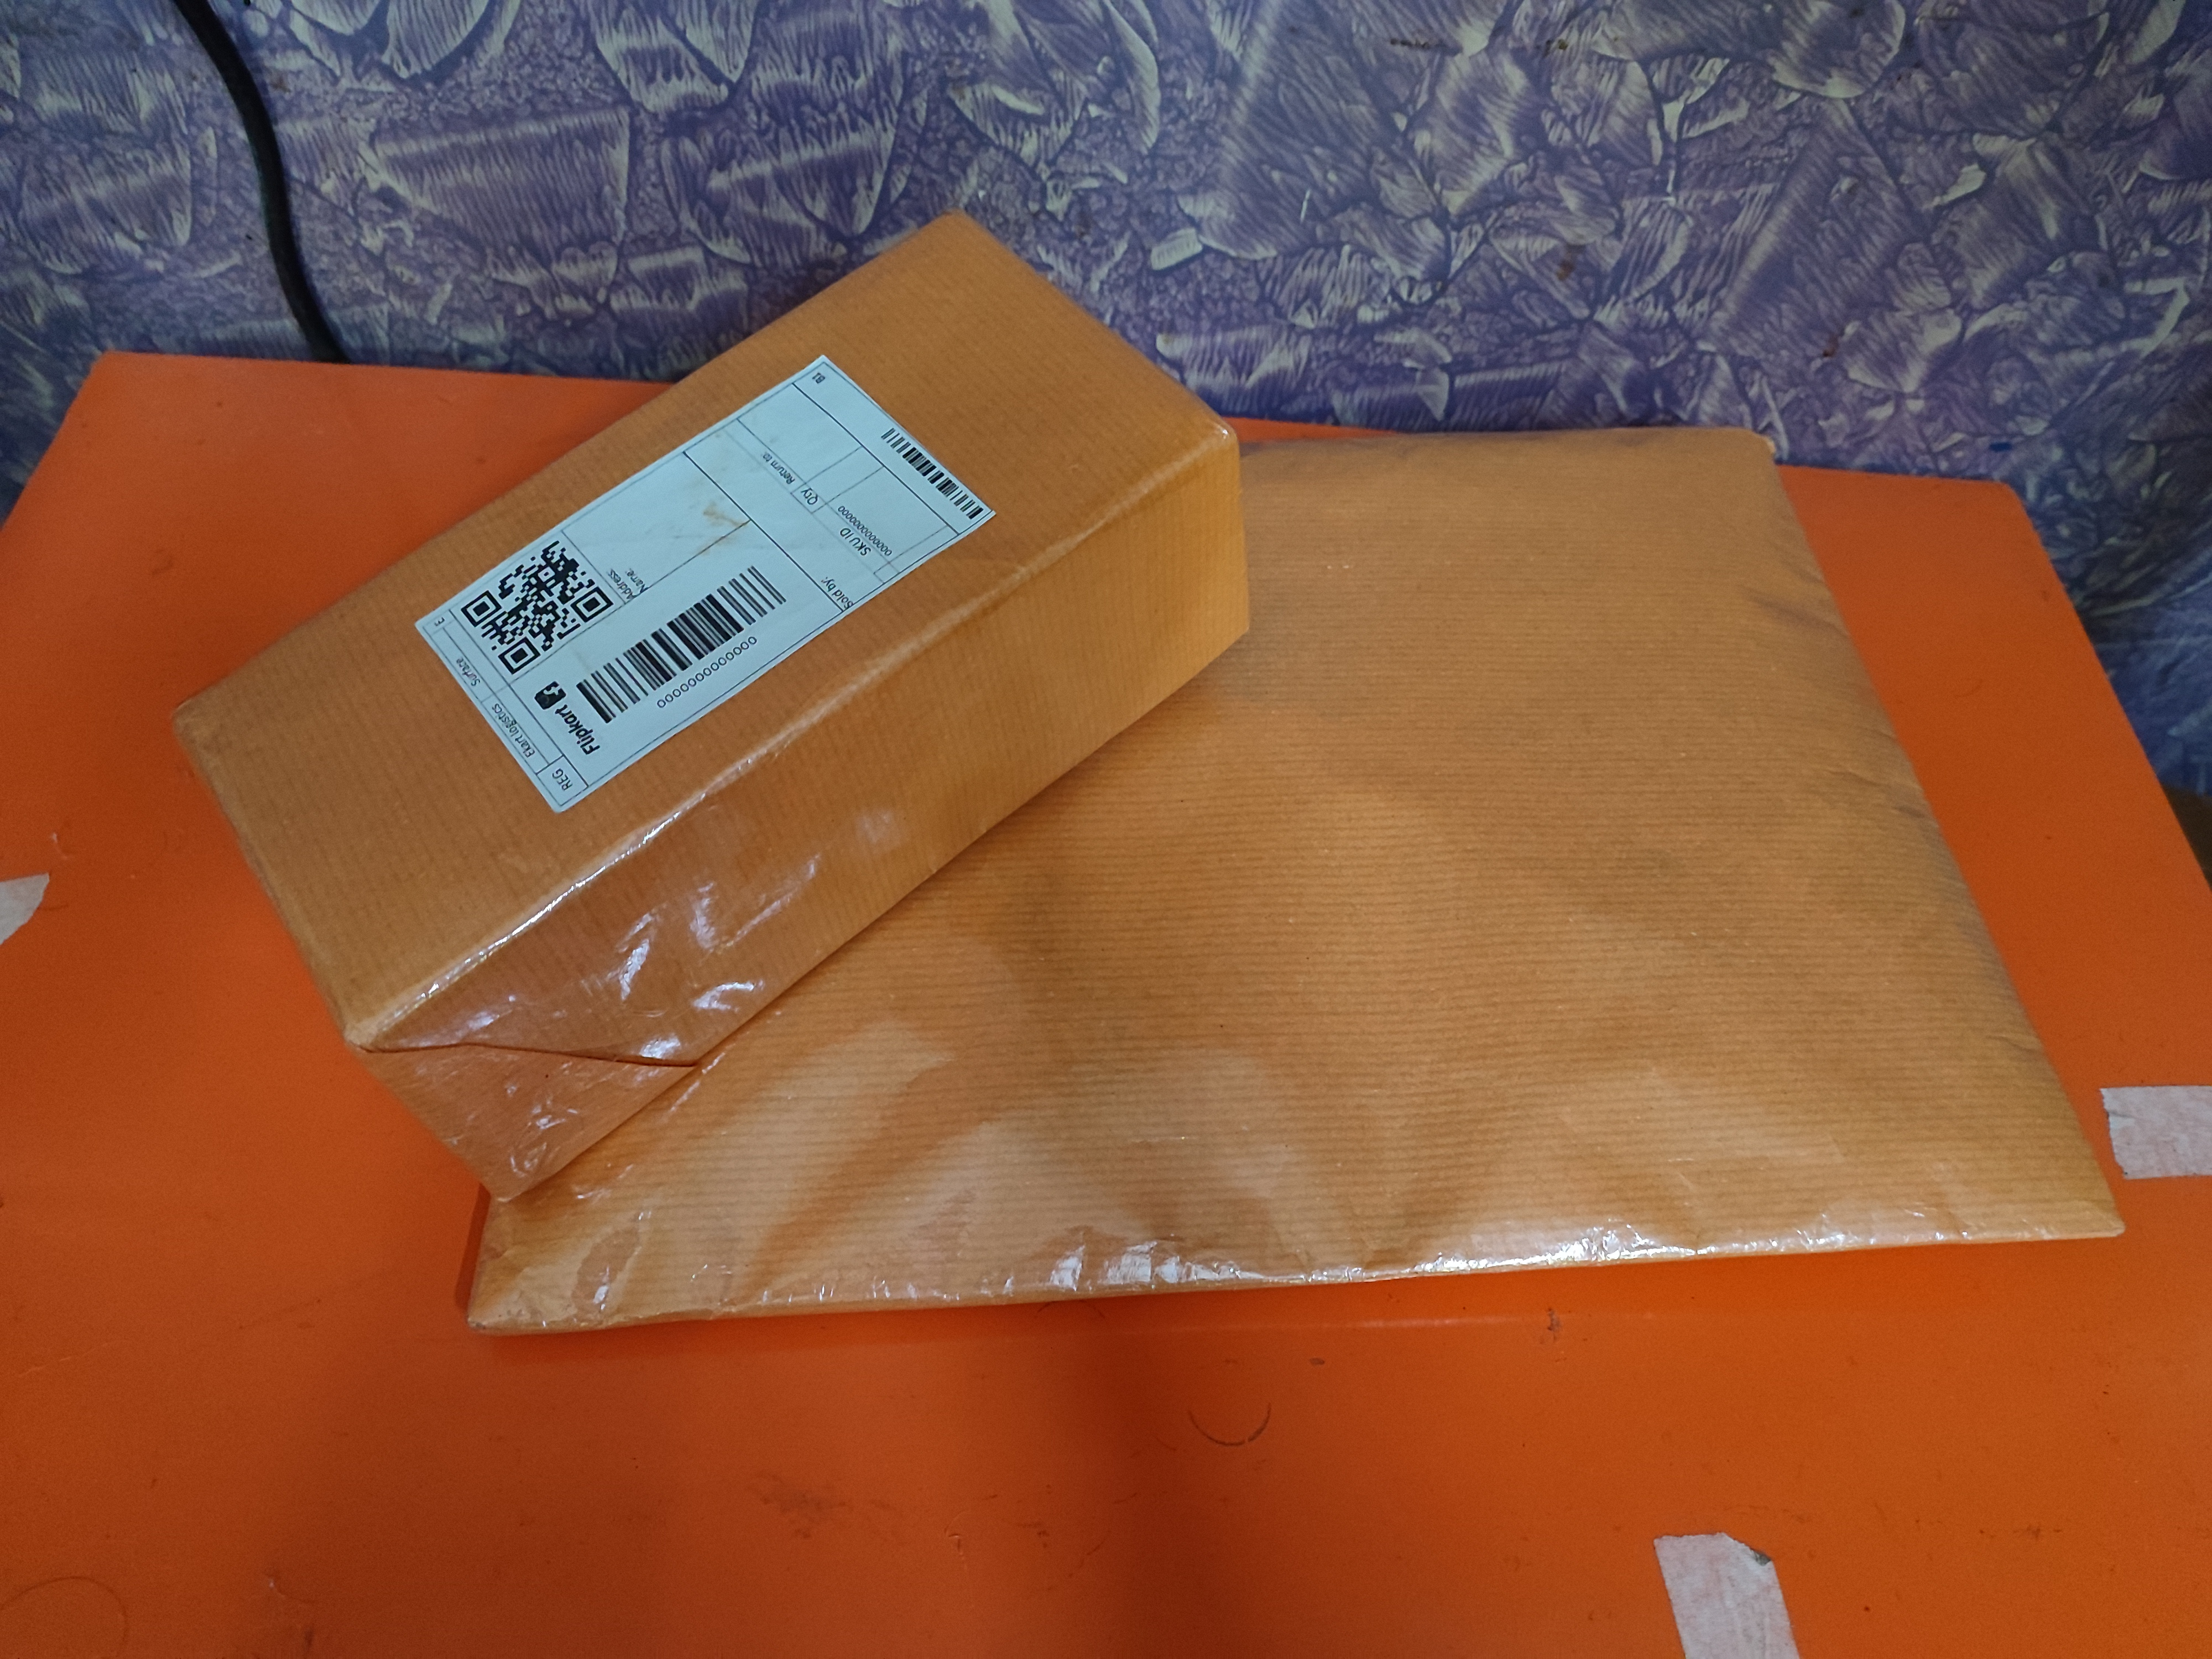Box: (448, 354, 1996, 1441), (150, 193, 1247, 1141)
